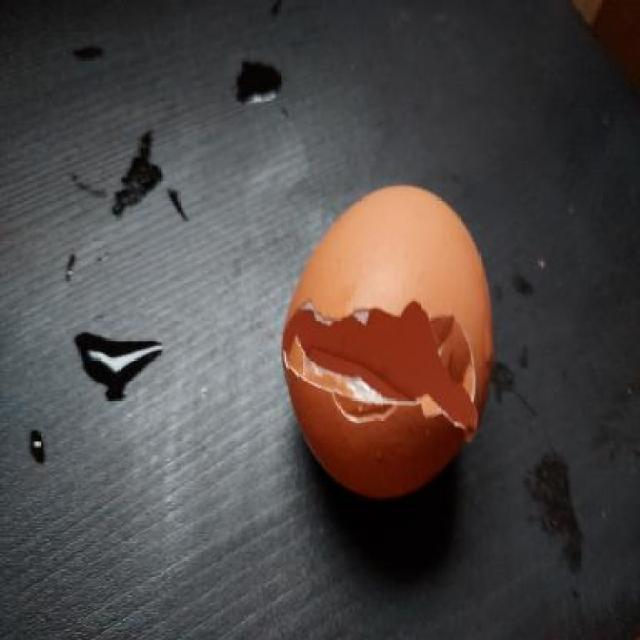biodegradable: (282, 182, 486, 506)
